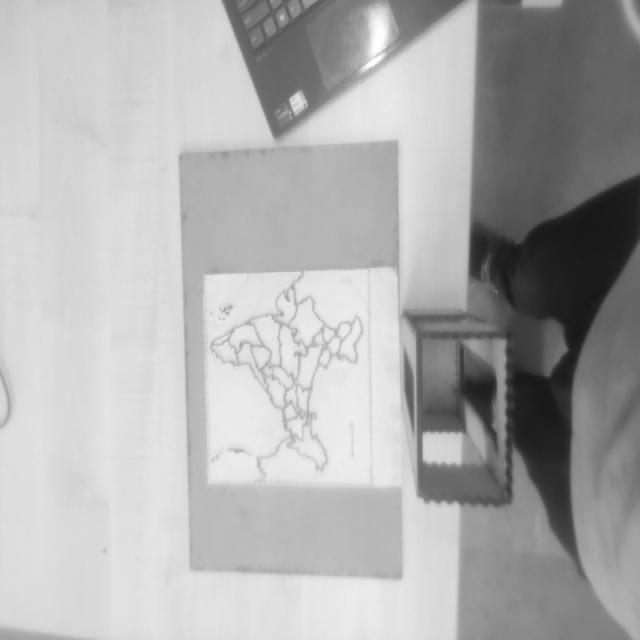map: (204, 269, 371, 488)
